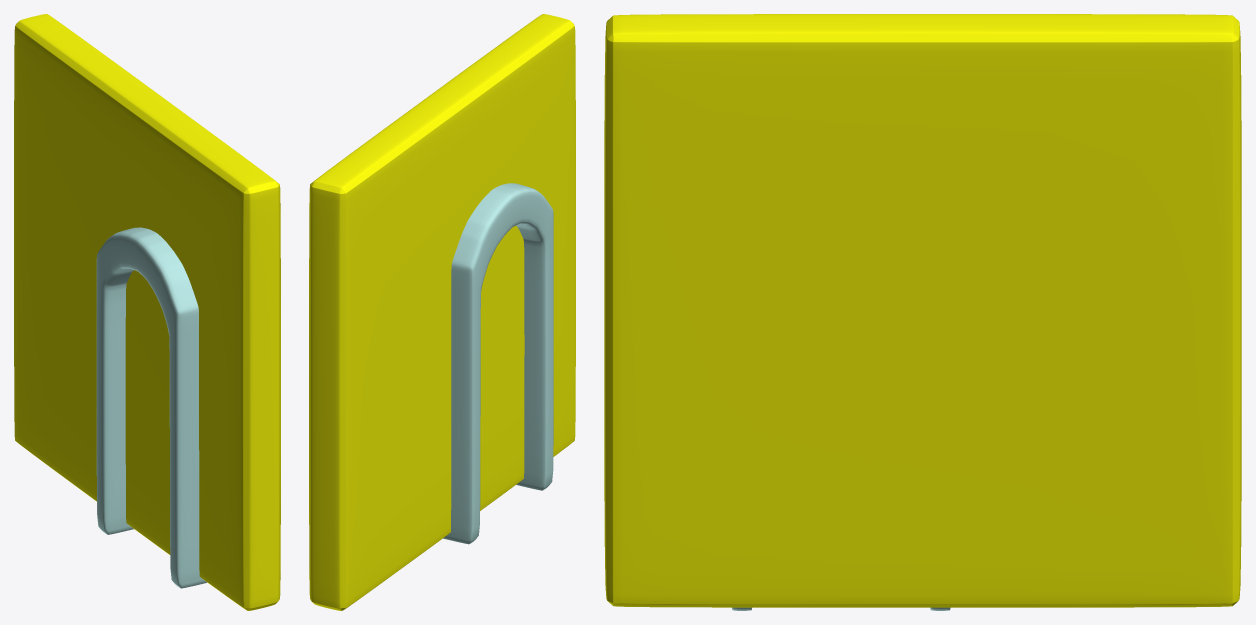
3 views of the same model, side by side, from view 1: azimuth 30°, elevation 25°; view 2: azimuth 150°, elevation 25°; view 3: azimuth 270°, elevation 25° (orthographic). The views are drawn at different scales.
Visible parts, largest first — view 1: polySurface1417; view 2: polySurface1417; view 3: polySurface1417.
Part boxes in pixels (x1,y1,x2,y2): polySurface1417: (14, 14, 280, 610); polySurface1417: (309, 14, 575, 610); polySurface1417: (604, 14, 1241, 610).
Size of the model in its own units: 0.1515 by 1.01 by 0.9995.
